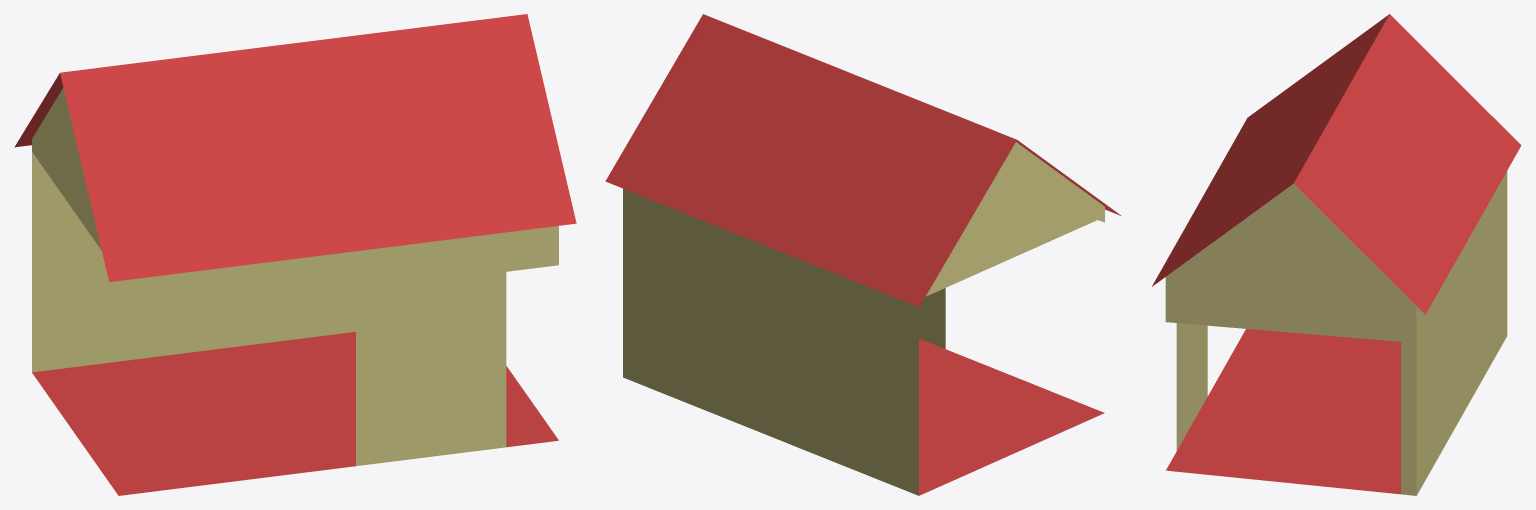
3 views of the same model, side by side, from view 1: azimuth 30°, elevation 25°; view 2: azimuth 150°, elevation 25°; view 3: azimuth 270°, elevation 25° (orthographic). The views are drawn at different scales.
Bounding box in the file's own units: 19.61 × 15.55 × 14.15.
